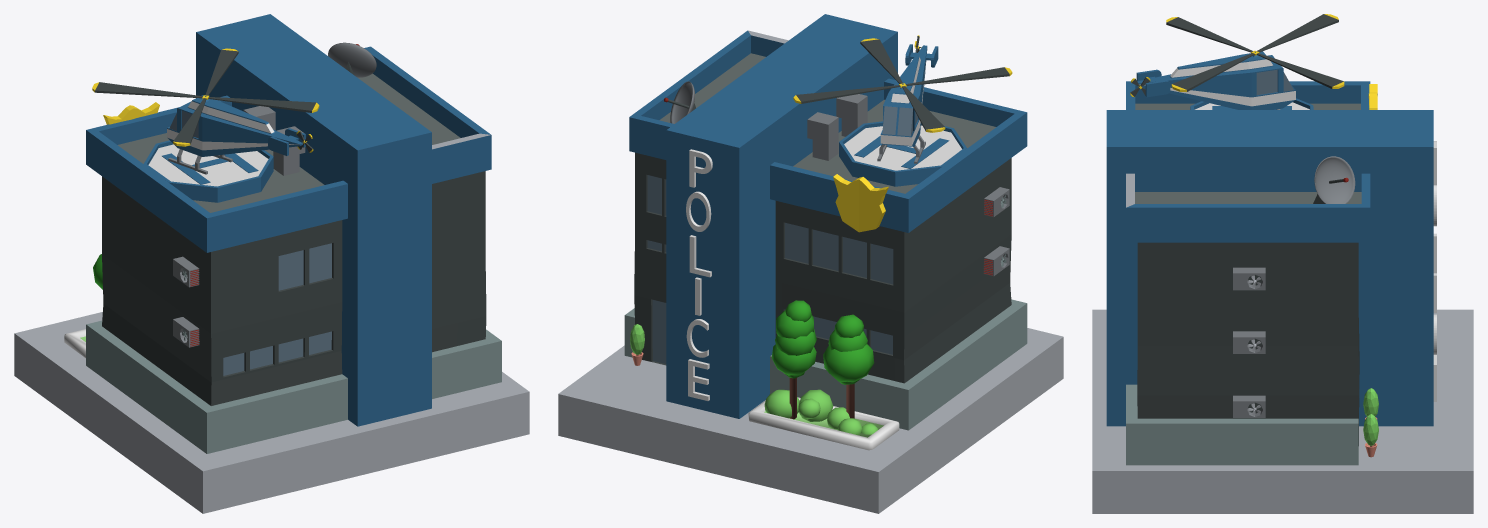
Rendered from police1.glb.
3 views of the same model, side by side, from view 1: azimuth 30°, elevation 25°; view 2: azimuth 150°, elevation 25°; view 3: azimuth 270°, elevation 25° (orthographic). The views are drawn at different scales.
Visible parts, largest first — view 1: Police; view 2: Police; view 3: Police.
Part boxes in pixels (x1,y1,x2,y2): Police: (14,14,529,513); Police: (558,14,1063,513); Police: (1092,14,1473,513).
Bounding box in the file's own units: 0.9986 × 0.9886 × 0.9986.
